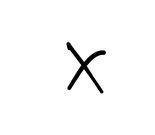mult: (67, 42, 106, 94)
